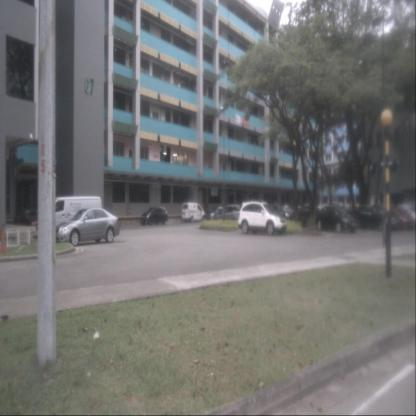movable_object-trafficcone: (0, 228, 9, 253)
vehicle-car: (42, 193, 103, 237), (54, 206, 122, 244), (237, 200, 286, 234), (315, 202, 357, 235), (356, 204, 400, 231), (140, 204, 168, 226), (214, 202, 240, 224), (182, 200, 206, 221), (205, 204, 224, 221)
